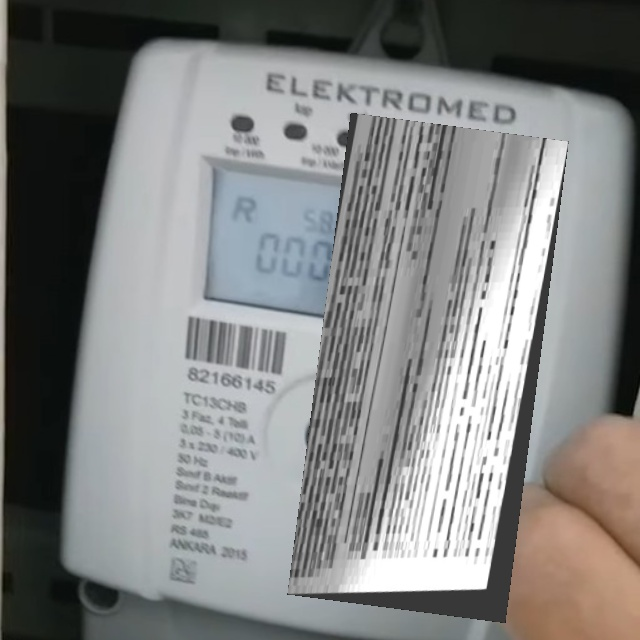electricity-bill: (287, 113, 569, 623)
